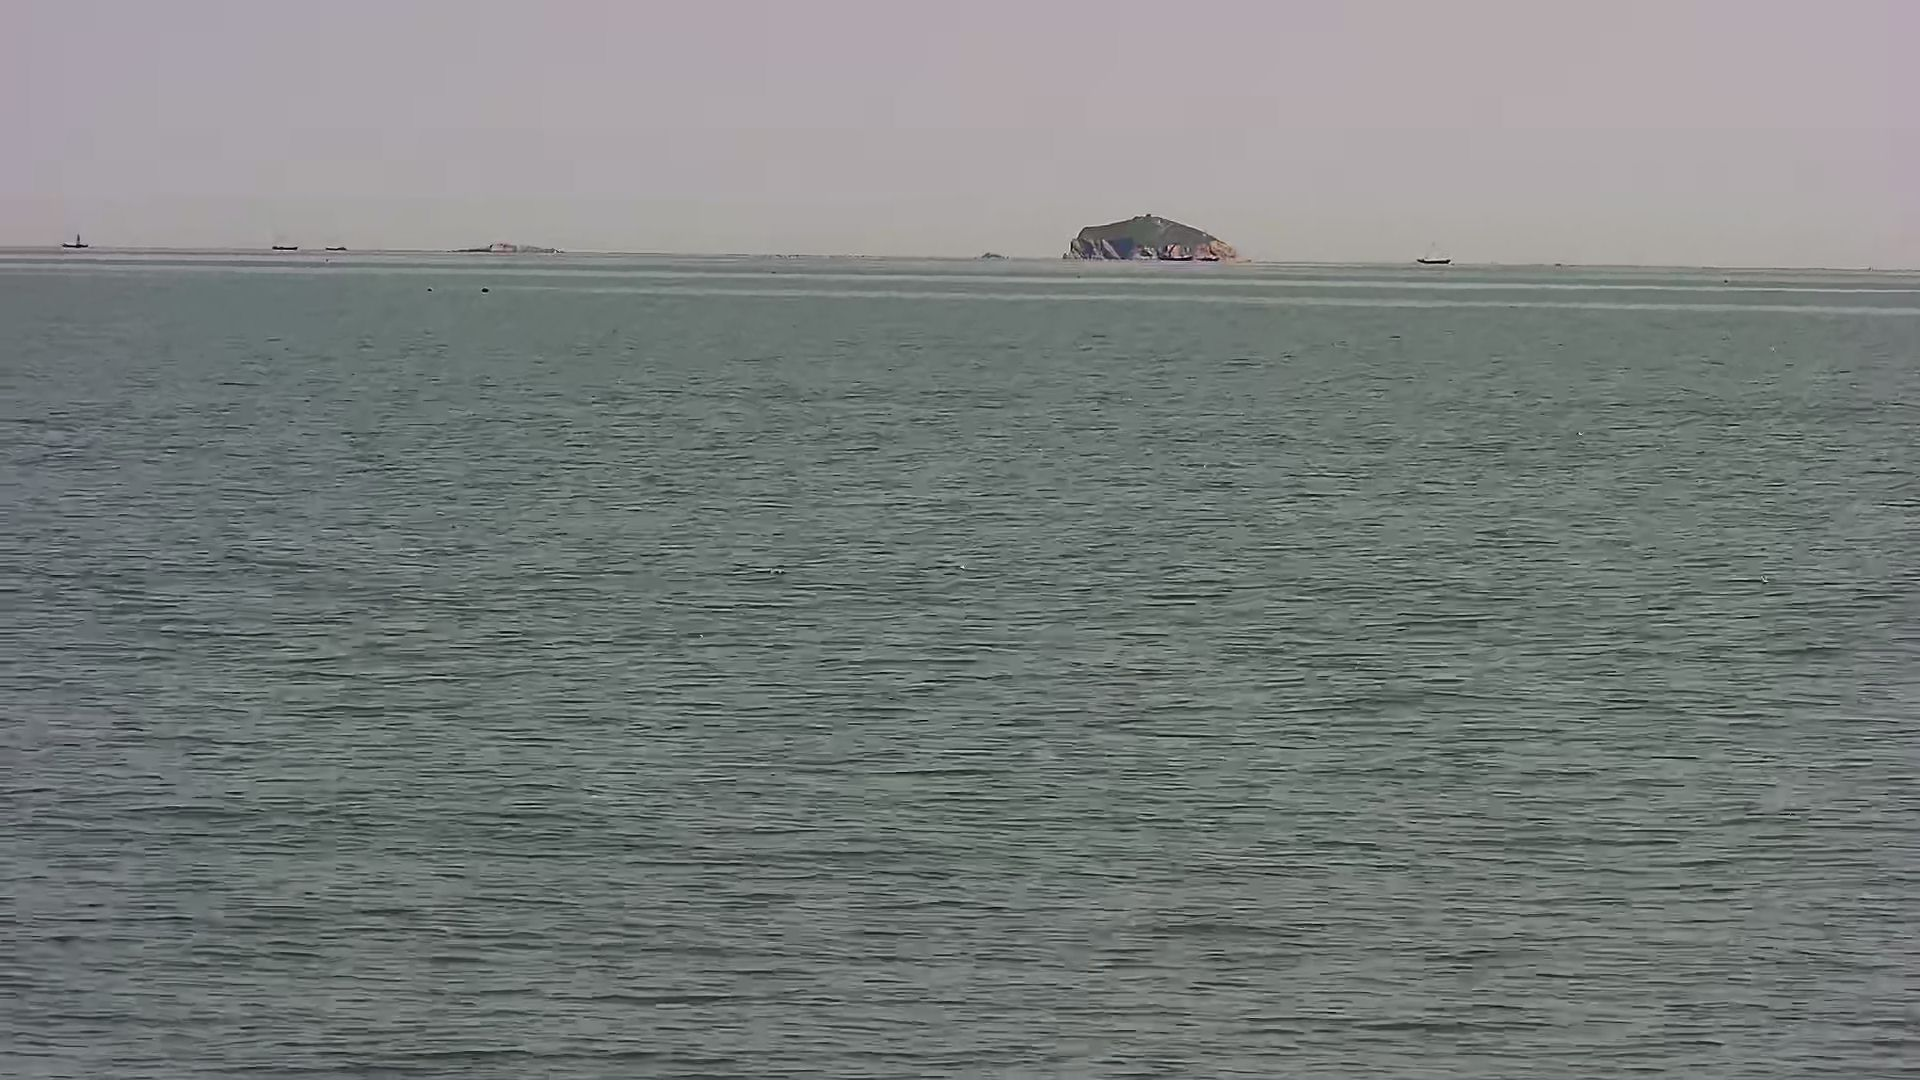rock: (1067, 199, 1255, 261)
